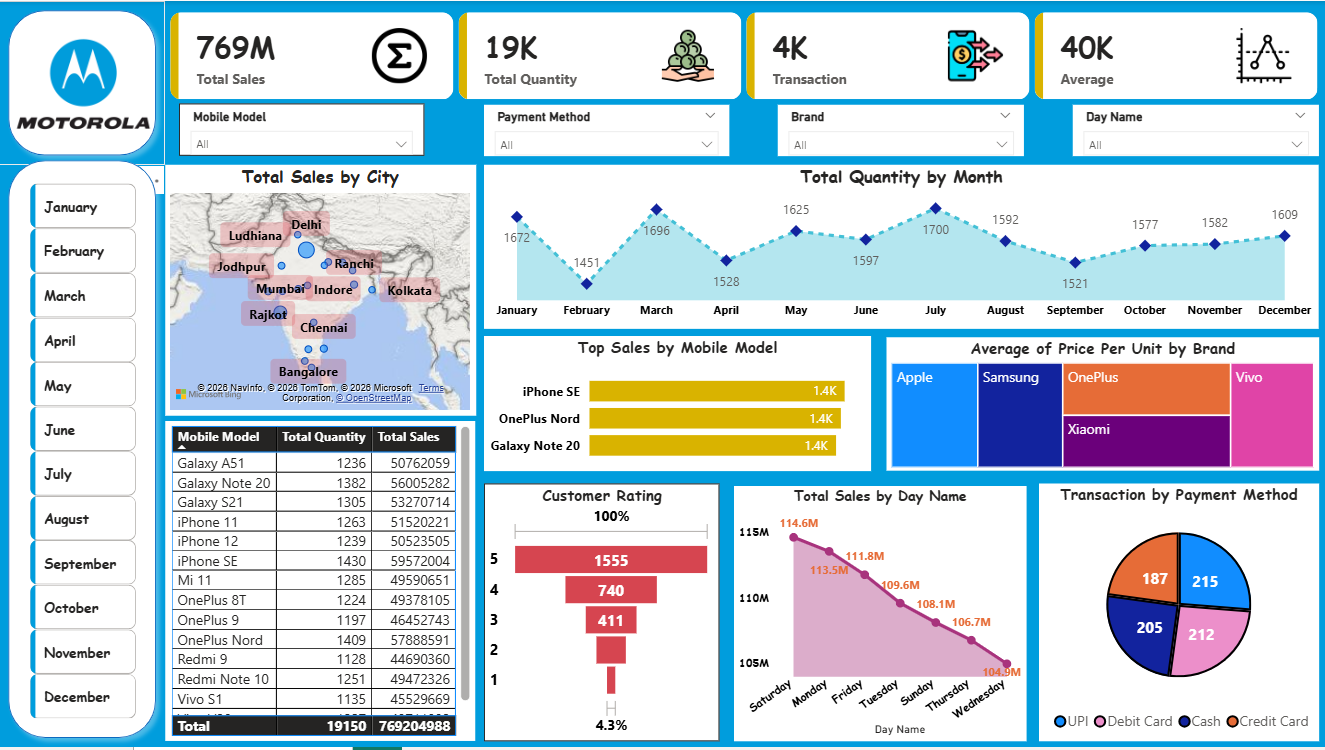

This screenshot's page, from the dashboard's own definition file:
{"tool":"powerbi","page":{"name":"Mobile_Sales_Dashboard","canvas":[1280,720],"ordinal":0},"visuals":[{"type":"shape","box":[0,0,160.5,158],"z":0},{"type":"shape","box":[0,144.8,160.5,575.5],"z":1000},{"type":"image","box":[13.3,10.9,133.9,138.7],"z":2000},{"type":"advancedSlicerVisual","fields":{"Values":["Mobie_Sales_Data.Date.Variation.Date Hierarchy.Month"]},"box":[25.3,171.3,112.2,526],"z":3000},{"type":"cardVisual","fields":{"Data":["Mobie_Sales_Data.Total Quantity","Mobie_Sales_Data.Total Quantity1","Mobie_Sales_Data.Transaction","Mobie_Sales_Data.Average"]},"box":[160.5,6,1119.6,94.1],"z":4000},{"type":"map","fields":{"Category":["Mobie_Sales_Data.City"],"Size":["Mobie_Sales_Data.Total Sales"]},"box":[160.5,158,299.2,241.3],"z":5000},{"type":"lineChart","fields":{"Category":["Mobie_Sales_Data.Date.Variation.Date Hierarchy.Month","Mobie_Sales_Data.Date.Variation.Date Hierarchy.Day"],"Y":["Mobie_Sales_Data.Total Quantity"]},"box":[468.1,158,805.9,158],"z":6000},{"type":"clusteredBarChart","title":"Top Sales by Mobile Model","fields":{"Category":["Mobie_Sales_Data.Mobile Model"],"Y":["Mobie_Sales_Data.Total Quantity"]},"box":[468.1,323.3,374,130.3],"z":7000},{"type":"pieChart","title":"Transaction by Payment Method","fields":{"Category":["Mobie_Sales_Data.Payment Method"],"Y":["Mobie_Sales_Data.Transaction"]},"box":[1003.8,465.7,270.2,248.5],"z":8000},{"type":"funnel","title":"Customer Rating","fields":{"Category":["Mobie_Sales_Data.Customer Ratings"],"Y":["Sum(Mobie_Sales_Data.Customer Ratings)"]},"box":[468.1,465.7,226.8,248.5],"z":9000},{"type":"areaChart","fields":{"Category":["Mobie_Sales_Data.Day Name"],"Y":["Mobie_Sales_Data.Total Sales"]},"box":[709,468.1,282.3,246.1],"z":10000},{"type":"tableEx","fields":{"Values":["Mobie_Sales_Data.Mobile Model","Mobie_Sales_Data.Total Quantity","Mobie_Sales_Data.Total Sales"]},"box":[160.5,405.4,299.2,308.8],"z":11000},{"type":"treemap","fields":{"Group":["Mobie_Sales_Data.Brand"],"Values":["Avg(Mobie_Sales_Data.Price Per Unit)"]},"box":[856.2,325,417.5,128.8],"z":12000},{"type":"slicer","fields":{"Values":["Mobie_Sales_Data.Mobile Model"]},"box":[173.7,98.9,236.5,50.7],"z":13000},{"type":"slicer","fields":{"Values":["Mobie_Sales_Data.Payment Method"]},"box":[468.1,100.1,236.5,49.5],"z":14000},{"type":"slicer","fields":{"Values":["Mobie_Sales_Data.Brand"]},"box":[751.6,100.1,237.7,49.5],"z":15000},{"type":"slicer","fields":{"Values":["Mobie_Sales_Data.Day Name"]},"box":[1036.3,100.1,237.7,49.5],"z":16000}]}

Visuals, with their boxes in screenshot pixels (x1, y1, x2, y2), scaled from the page's 1280x720 canvas onto the 1325x750 screenshot:
shape: (0,0,166,165)
shape: (0,151,166,749)
image: (14,11,152,156)
advancedSlicerVisual - Mobie_Sales_Data.Date.Variation.Date Hierarchy.Month: (26,178,142,726)
cardVisual - Mobie_Sales_Data.Total Quantity x Mobie_Sales_Data.Total Quantity1: (166,6,1324,104)
map - Mobie_Sales_Data.City x Mobie_Sales_Data.Total Sales: (166,165,476,416)
lineChart - Mobie_Sales_Data.Date.Variation.Date Hierarchy.Month x Mobie_Sales_Data.Date.Variation.Date Hierarchy.Day: (485,165,1319,329)
"Top Sales by Mobile Model" clusteredBarChart: (485,337,872,473)
"Transaction by Payment Method" pieChart: (1039,485,1319,744)
"Customer Rating" funnel: (485,485,719,744)
areaChart - Mobie_Sales_Data.Day Name x Mobie_Sales_Data.Total Sales: (734,488,1026,744)
tableEx - Mobie_Sales_Data.Mobile Model x Mobie_Sales_Data.Total Quantity: (166,422,476,744)
treemap - Mobie_Sales_Data.Brand x Avg(Mobie_Sales_Data.Price Per Unit): (886,339,1318,473)
slicer - Mobie_Sales_Data.Mobile Model: (180,103,425,156)
slicer - Mobie_Sales_Data.Payment Method: (485,104,729,156)
slicer - Mobie_Sales_Data.Brand: (778,104,1024,156)
slicer - Mobie_Sales_Data.Day Name: (1073,104,1319,156)
